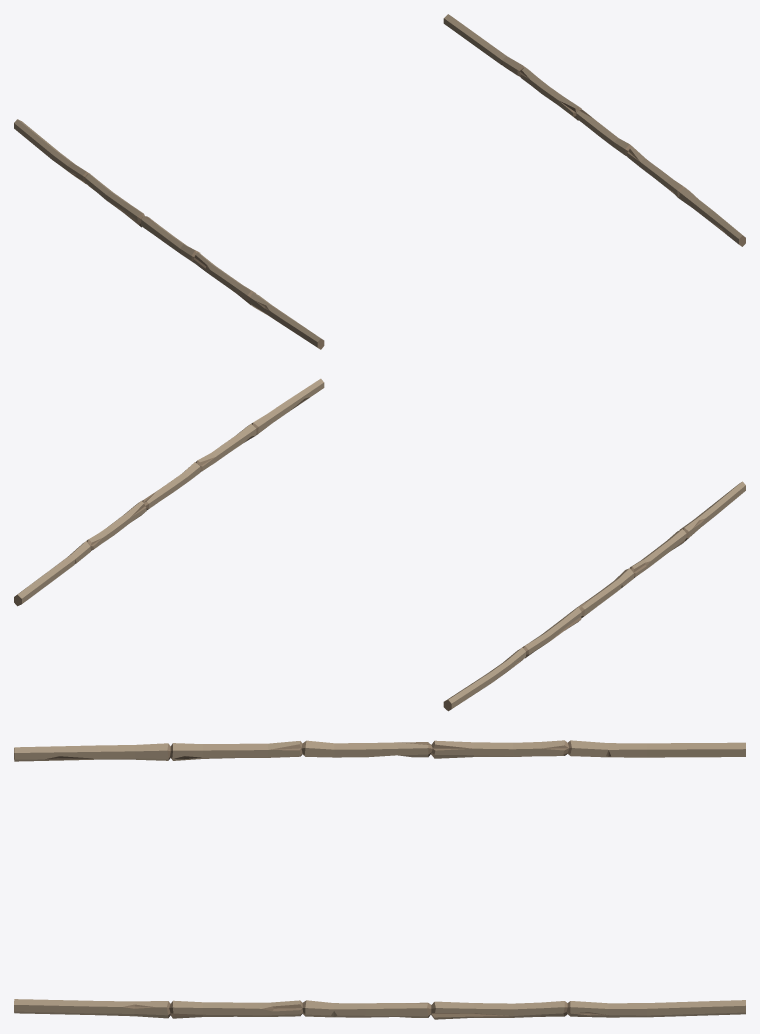
The model's file is SM_Veh_Ship_L_Middle_03.fbx.
The picture shows the model from 3 angles, top to bottom: view 1: azimuth 30°, elevation 25°; view 2: azimuth 150°, elevation 25°; view 3: azimuth 270°, elevation 25°; orthographic projection. The views are drawn at different scales.
Visible parts, largest first — view 1: SM_Veh_Ship_L_Middle_03; view 2: SM_Veh_Ship_L_Middle_03; view 3: SM_Veh_Ship_L_Middle_03.
Boxes of the visible parts, x1=… form: SM_Veh_Ship_L_Middle_03: x1=14, y1=14, x2=745, y2=349; SM_Veh_Ship_L_Middle_03: x1=14, y1=378, x2=745, y2=711; SM_Veh_Ship_L_Middle_03: x1=14, y1=740, x2=745, y2=1019.
Bounding box in the file's own units: 988 × 33.74 × 1153.
